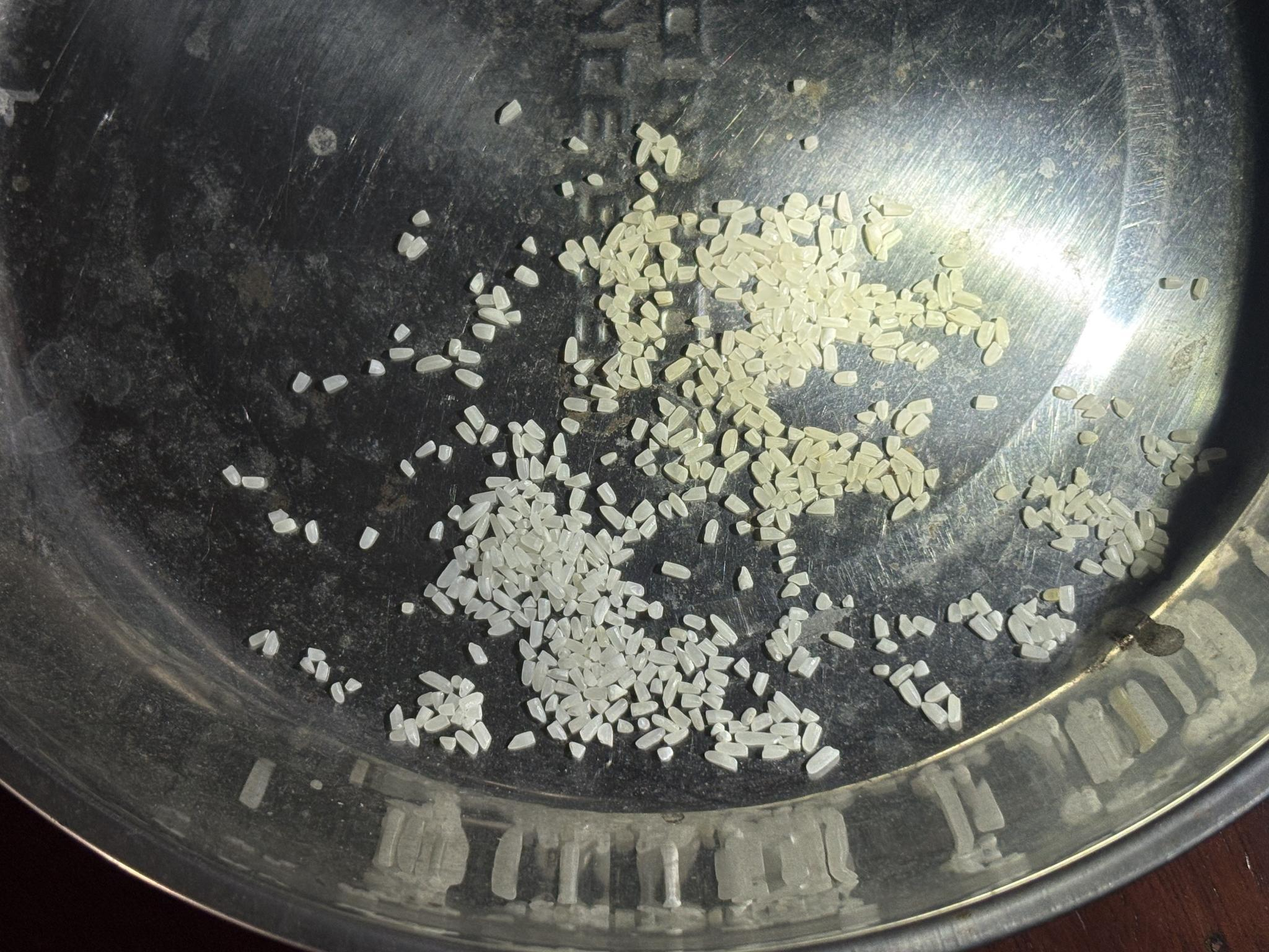Rice-th-y-nh: (457, 500, 493, 531), (804, 745, 840, 775), (709, 613, 739, 645), (1007, 614, 1036, 646), (774, 690, 802, 723), (419, 669, 454, 695), (583, 533, 610, 565), (943, 693, 966, 730), (893, 447, 925, 473), (704, 748, 738, 772), (436, 558, 462, 589), (635, 725, 666, 751), (1064, 488, 1095, 514), (833, 191, 857, 224), (598, 503, 626, 531), (492, 587, 521, 614), (968, 615, 997, 642), (973, 319, 998, 350), (478, 305, 511, 328), (538, 572, 565, 600), (663, 356, 692, 382), (581, 235, 603, 269), (863, 223, 886, 255), (739, 231, 772, 253), (920, 700, 949, 725), (579, 713, 603, 743), (471, 721, 495, 751), (651, 712, 682, 735), (697, 366, 720, 397), (772, 211, 794, 243), (604, 697, 630, 724), (454, 729, 480, 756), (1107, 497, 1135, 522), (904, 412, 932, 437), (712, 265, 741, 289), (683, 640, 707, 669), (665, 404, 689, 433), (718, 428, 741, 458), (723, 450, 750, 475), (741, 387, 769, 411), (1136, 509, 1157, 541), (787, 645, 811, 673), (604, 222, 627, 251), (878, 473, 901, 502), (529, 516, 552, 545), (707, 466, 729, 496), (838, 224, 860, 254), (500, 542, 521, 573), (631, 497, 655, 524), (715, 740, 749, 759), (456, 578, 479, 606), (624, 627, 646, 656), (525, 619, 547, 648), (648, 646, 677, 668), (561, 335, 583, 364), (454, 368, 484, 389), (891, 496, 915, 522), (463, 404, 487, 430), (771, 628, 793, 656), (491, 284, 513, 312), (673, 647, 695, 675), (924, 681, 952, 703), (667, 705, 692, 729), (889, 663, 914, 687), (734, 252, 759, 276), (520, 432, 545, 456), (1013, 603, 1038, 627), (668, 427, 694, 450), (663, 461, 689, 484), (667, 491, 689, 518), (526, 697, 548, 724), (1059, 521, 1090, 540), (471, 512, 492, 540), (645, 225, 673, 246), (487, 618, 515, 639), (828, 629, 856, 650), (1020, 642, 1049, 662), (431, 591, 455, 615), (815, 248, 839, 272), (769, 446, 792, 471), (510, 494, 533, 519), (455, 421, 478, 446), (749, 711, 774, 734), (866, 458, 891, 481), (636, 122, 661, 145), (605, 626, 627, 652), (801, 341, 823, 367), (788, 216, 814, 238), (664, 726, 690, 748), (424, 713, 451, 734), (526, 455, 547, 482), (816, 314, 849, 331), (634, 139, 654, 167), (758, 524, 786, 544), (451, 544, 471, 572), (734, 330, 762, 350), (630, 243, 650, 271), (970, 592, 993, 616), (798, 655, 822, 678), (523, 418, 546, 442), (1088, 496, 1112, 519), (637, 660, 659, 685), (564, 238, 586, 263), (912, 615, 937, 637), (834, 324, 859, 346), (568, 667, 589, 693), (893, 469, 914, 495), (678, 435, 704, 456), (696, 408, 717, 434), (462, 705, 483, 731), (871, 614, 892, 640), (609, 546, 635, 567), (595, 721, 616, 747), (595, 529, 615, 556), (640, 317, 663, 340), (558, 251, 581, 274), (750, 461, 772, 485), (650, 421, 672, 445), (625, 321, 649, 343), (445, 575, 467, 599), (479, 422, 501, 446), (626, 593, 650, 615), (787, 340, 809, 364), (620, 338, 645, 359), (704, 667, 729, 688), (770, 720, 799, 738), (751, 671, 771, 697), (639, 514, 659, 540), (590, 382, 617, 401), (467, 642, 489, 665), (568, 712, 591, 734), (756, 266, 779, 288), (406, 236, 428, 259), (1156, 438, 1178, 461), (701, 691, 725, 712), (697, 266, 718, 290), (1102, 558, 1126, 579), (474, 600, 498, 621), (613, 321, 634, 345), (894, 407, 915, 431), (520, 532, 545, 552), (752, 485, 772, 510), (764, 638, 784, 663), (736, 566, 756, 591), (859, 440, 884, 460), (974, 392, 999, 412), (475, 575, 494, 601), (1082, 402, 1108, 421), (604, 567, 623, 593), (995, 483, 1021, 502), (682, 484, 708, 503), (714, 285, 743, 302), (702, 348, 724, 370), (727, 358, 748, 381), (546, 720, 569, 741), (639, 299, 660, 322), (787, 366, 808, 389), (732, 403, 753, 426), (693, 384, 714, 407), (497, 564, 520, 585), (757, 451, 778, 474), (756, 506, 779, 527), (494, 486, 515, 509), (632, 679, 652, 703), (622, 579, 646, 599), (602, 352, 622, 376), (898, 614, 918, 638), (534, 597, 553, 622), (497, 505, 523, 523), (719, 330, 737, 356), (513, 546, 534, 568), (617, 668, 638, 690), (656, 396, 677, 418), (862, 323, 883, 345), (727, 261, 749, 282), (696, 638, 719, 658), (518, 638, 538, 661), (631, 649, 650, 673), (774, 508, 793, 532), (560, 691, 584, 710), (632, 194, 656, 213), (758, 405, 782, 424), (538, 676, 557, 700), (551, 433, 570, 457), (688, 707, 706, 732), (1051, 535, 1076, 553), (682, 613, 707, 631), (614, 283, 635, 304), (548, 635, 569, 656), (562, 513, 583, 534), (496, 513, 516, 535), (415, 439, 437, 459), (727, 386, 747, 408), (603, 609, 626, 628), (655, 213, 679, 231), (820, 482, 844, 500), (568, 616, 586, 640), (743, 426, 763, 447), (1146, 449, 1167, 469), (639, 171, 659, 192), (222, 465, 242, 486), (589, 697, 611, 716), (571, 507, 593, 526), (573, 357, 595, 376), (619, 373, 641, 392), (923, 466, 942, 488), (698, 460, 717, 482), (733, 657, 752, 679), (837, 431, 859, 450), (1141, 433, 1160, 455), (765, 295, 791, 311), (542, 513, 565, 531), (622, 209, 645, 227), (885, 434, 903, 457), (777, 555, 797, 575), (827, 267, 846, 288), (537, 649, 558, 668), (1072, 467, 1091, 488), (744, 356, 766, 374), (876, 637, 898, 655), (605, 369, 623, 391), (744, 412, 766, 430), (1080, 558, 1103, 575), (776, 462, 799, 479), (547, 666, 570, 683), (763, 420, 786, 437), (554, 703, 571, 726), (802, 300, 819, 323), (874, 289, 897, 306), (596, 671, 619, 688), (557, 616, 573, 640), (816, 267, 832, 291), (249, 629, 269, 648), (583, 549, 602, 569), (837, 252, 857, 271), (780, 581, 801, 599), (479, 535, 500, 553), (913, 491, 931, 512), (685, 342, 706, 360), (896, 340, 917, 358), (1096, 518, 1114, 539), (844, 271, 861, 293), (581, 626, 598, 648), (788, 571, 810, 588), (556, 528, 572, 551), (534, 490, 557, 506), (511, 609, 530, 628), (568, 741, 587, 760), (502, 580, 521, 599), (804, 204, 822, 224), (657, 664, 677, 682), (554, 463, 572, 483), (522, 482, 542, 500), (654, 289, 675, 306), (691, 314, 712, 331), (726, 718, 747, 735), (705, 682, 727, 698), (574, 553, 590, 575), (588, 641, 604, 663), (819, 191, 837, 210), (713, 367, 731, 386), (864, 478, 884, 495), (562, 599, 579, 619), (786, 425, 806, 442), (691, 670, 707, 691), (568, 136, 589, 152), (1043, 476, 1059, 497), (315, 660, 330, 682), (491, 450, 509, 468), (539, 503, 557, 521), (669, 626, 688, 643), (1073, 505, 1092, 522), (400, 459, 416, 479), (681, 379, 697, 399), (800, 708, 820, 724), (268, 509, 289, 524), (648, 677, 665, 695), (787, 500, 805, 517), (1164, 471, 1182, 488), (446, 504, 464, 521), (650, 146, 666, 165), (437, 702, 456, 718), (606, 593, 625, 609), (611, 311, 631, 326), (439, 735, 457, 751), (641, 636, 657, 654), (698, 334, 716, 350), (307, 647, 326, 662), (766, 368, 782, 385), (560, 181, 576, 198), (300, 657, 316, 674), (845, 479, 863, 494), (345, 677, 362, 692), (879, 316, 900, 328), (472, 559, 484, 576)
